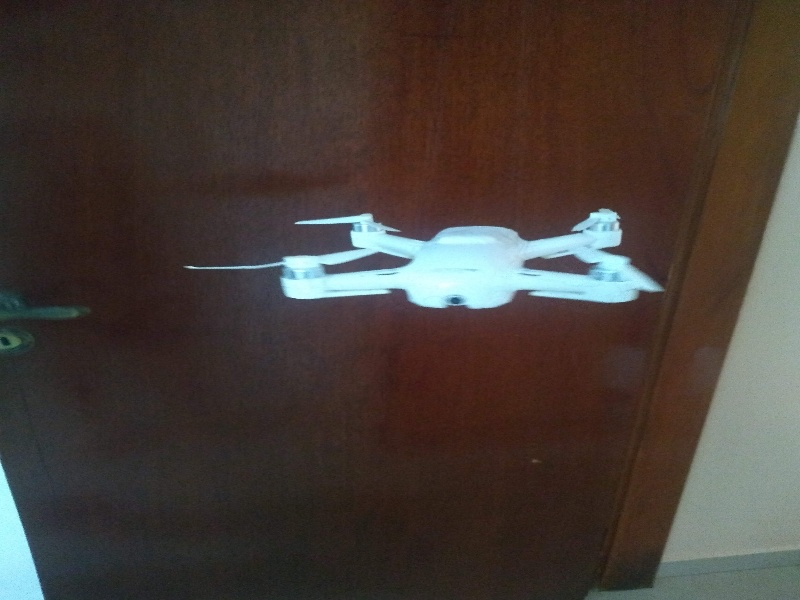drone: (246, 200, 669, 323)
